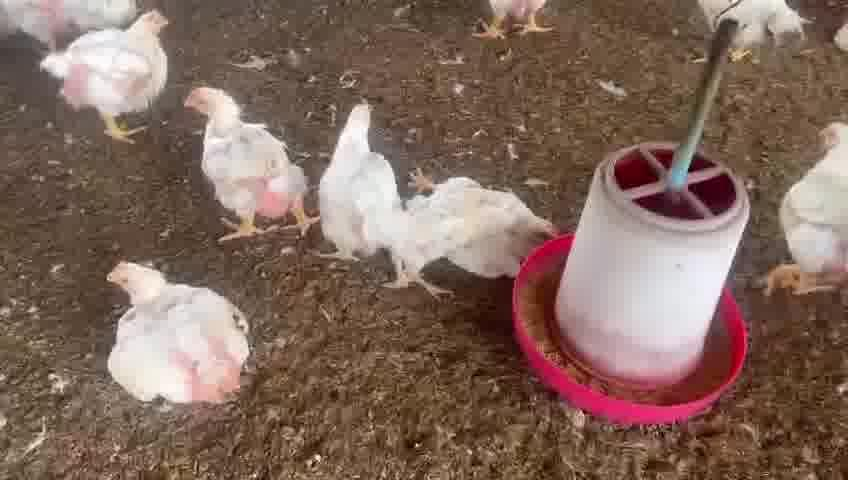AbNormal: (104, 263, 251, 406), (390, 166, 558, 264)
Normal: (182, 86, 313, 240), (46, 9, 170, 144), (764, 119, 848, 298), (319, 100, 401, 262), (481, 4, 552, 45)
